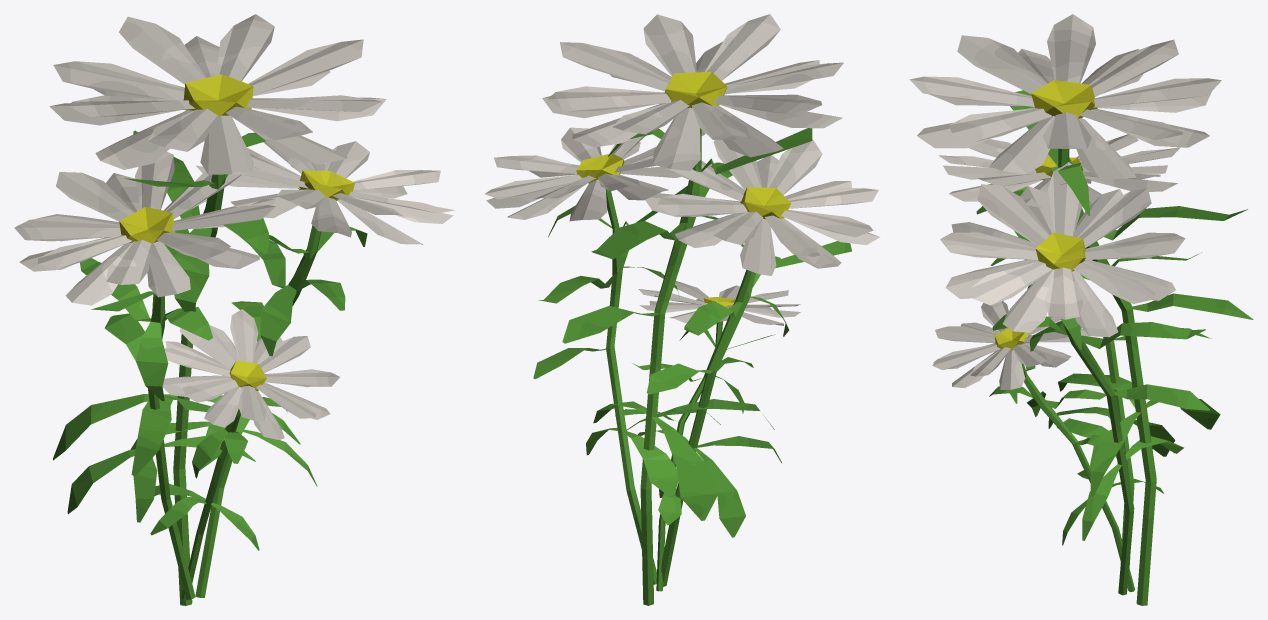
The model's file is Papatya.fbx.
3 renders of one model, left to right at view 1: azimuth 30°, elevation 25°; view 2: azimuth 150°, elevation 25°; view 3: azimuth 270°, elevation 25°, orthographic. The views are drawn at different scales.
Parts seen in each view (by area): view 1: papatya.001; view 2: papatya.001; view 3: papatya.001.
Part boxes in pixels (left/top/right/bottom): papatya.001: left=14, top=14, right=455, bottom=605; papatya.001: left=485, top=14, right=880, bottom=605; papatya.001: left=909, top=14, right=1253, bottom=605.
Bounding box in the file's own units: 39.72 × 51.9 × 31.09.
Materials: 1 (1 with a texture image).
